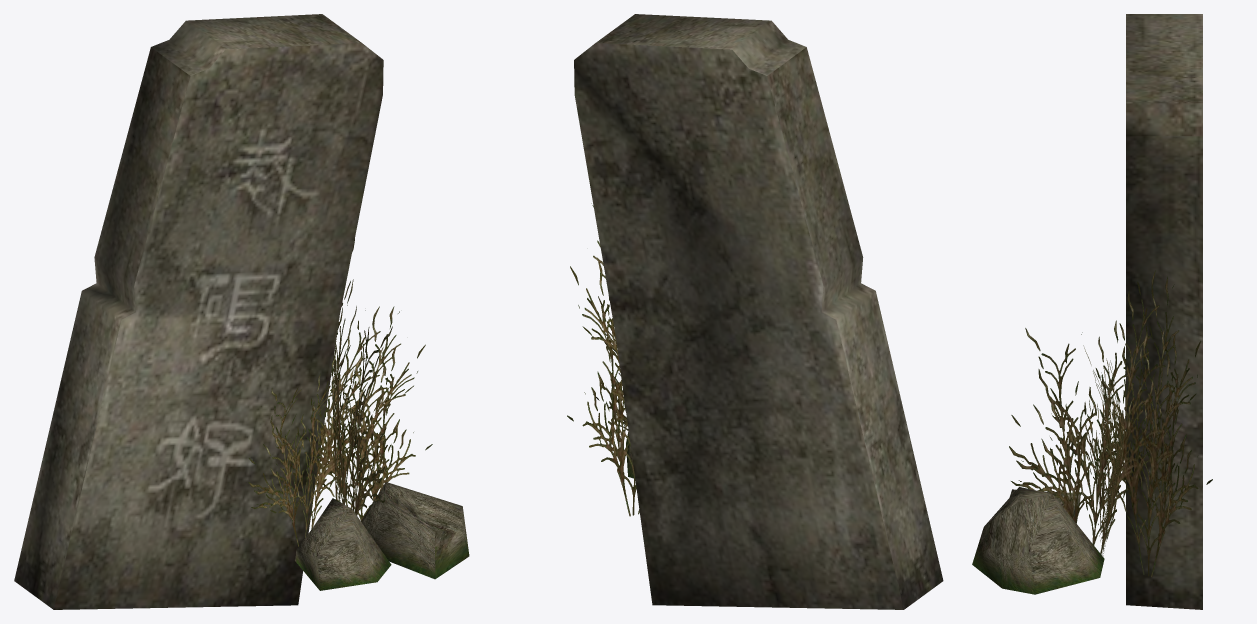
The model's file is cj_grave_tombstone05_01.glb.
3 renders of one model, left to right at view 1: azimuth 30°, elevation 25°; view 2: azimuth 150°, elevation 25°; view 3: azimuth 270°, elevation 25°, orthographic. The views are drawn at different scales.
Parts seen in each view (by area): view 1: cj_grave_tombstone05_01, cj_grave_tombstone05_02, cj_grave_tombstone05_03; view 2: cj_grave_tombstone05_01, cj_grave_tombstone05_02; view 3: cj_grave_tombstone05_01, cj_grave_tombstone05_02, cj_grave_tombstone05_03.
Boxes of the visible parts, x1,y1,x2,y2 form: cj_grave_tombstone05_01: (14,14,383,609); cj_grave_tombstone05_02: (248,239,432,546); cj_grave_tombstone05_03: (294,482,469,590); cj_grave_tombstone05_01: (574,14,943,609); cj_grave_tombstone05_02: (567,203,639,516); cj_grave_tombstone05_01: (1126,14,1202,609); cj_grave_tombstone05_02: (1009,270,1212,577); cj_grave_tombstone05_03: (972,487,1104,594).
Bounding box in the file's own units: 1.66 × 2.24 × 0.9843.
Materials: 3 (3 with a texture image).
